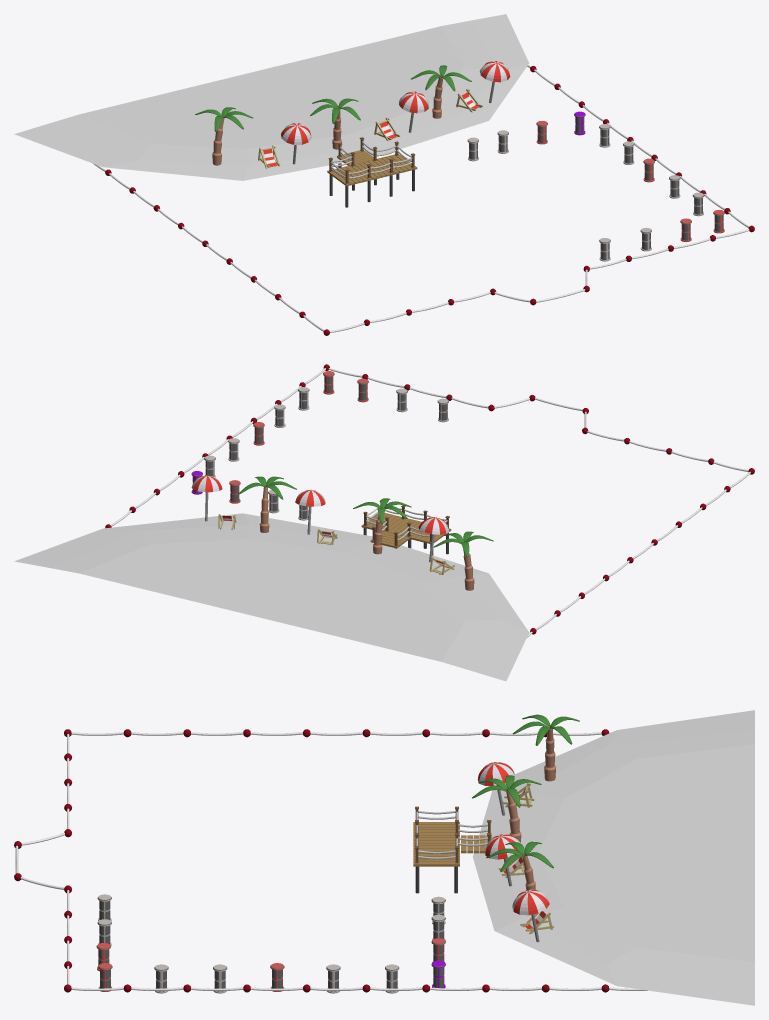
The model's file is PortSon.fbx.
The picture shows the model from 3 angles, top to bottom: view 1: azimuth 30°, elevation 25°; view 2: azimuth 150°, elevation 25°; view 3: azimuth 270°, elevation 25°; orthographic projection. The views are drawn at different scales.
Visible parts, largest first — view 1: Cylinder, Cube.014, Sphere.001, Sphere.003, Cylinder.016, Cylinder.001, Kolon.055, Cylinder.015, İskele Tutacak.016, Sphere.002, Sphere.005; view 2: Cylinder, Sphere.001, Cube.014, Sphere.003, Cylinder.016, Cylinder.001, Cylinder.015, Sphere.002, Sphere.005; view 3: Cylinder, Sphere.003, Sphere.001, Cube.014, Cylinder.001, Cylinder.015, Cylinder.016, Kolon.055, Sphere.008, Sphere, Sphere.004.
Boxes of the visible parts, box(x1,y1,x2,y2) form: Cylinder: box(14, 14, 529, 180); Cube.014: box(327, 154, 417, 186); Sphere.001: box(93, 163, 329, 335); Sphere.003: box(527, 65, 754, 232); Cylinder.016: box(411, 65, 471, 118); Cylinder.001: box(195, 107, 253, 165); Kolon.055: box(330, 141, 412, 178); Cylinder.015: box(310, 98, 360, 149); İskele Tutacak.016: box(328, 137, 415, 183); Sphere.002: box(329, 288, 496, 332); Sphere.005: box(583, 229, 749, 271); Cylinder: box(14, 513, 529, 681); Sphere.001: box(527, 468, 754, 637); Cube.014: box(361, 513, 451, 543); Sphere.003: box(105, 364, 329, 528); Cylinder.016: box(238, 476, 296, 532); Cylinder.001: box(433, 531, 493, 590); Cylinder.015: box(353, 498, 411, 554); Sphere.002: box(582, 427, 748, 471); Sphere.005: box(328, 368, 494, 411); Cylinder: box(473, 710, 754, 1005); Sphere.003: box(64, 984, 647, 992); Sphere.001: box(64, 729, 610, 737); Cube.014: box(413, 822, 459, 866); Cylinder.001: box(512, 714, 579, 781); Cylinder.015: box(472, 775, 541, 842); Cylinder.016: box(486, 841, 553, 890); Kolon.055: box(416, 811, 487, 859); Sphere.008: box(512, 889, 549, 915); Sphere: box(477, 762, 514, 785); Sphere.004: box(485, 834, 520, 859).
Bounding box in the file's own units: 9067 × 1269 × 9601.
